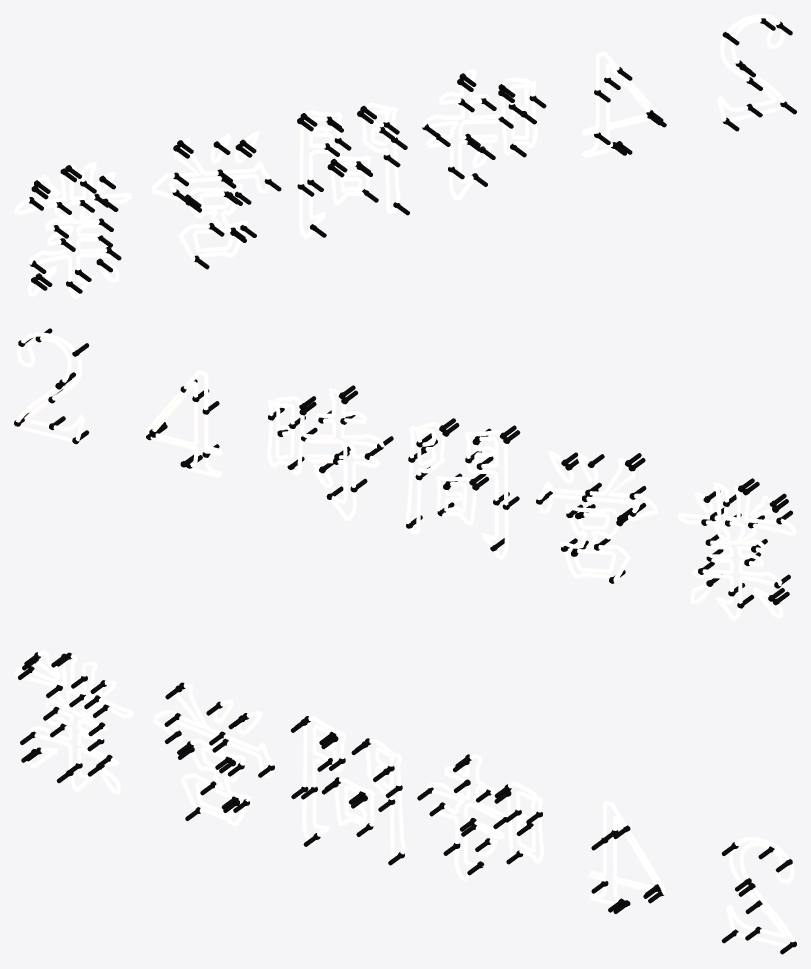
Rendered from neon_24zikaneigyou.fbx.
3 renders of one model, top to bottom at view 1: azimuth 30°, elevation 25°; view 2: azimuth 150°, elevation 25°; view 3: azimuth 330°, elevation 25°, orthographic.
Parts seen in each view (by area): view 1: NeonEnglish; view 2: NeonEnglish; view 3: NeonEnglish.
Part boxes in pixels (x1,y1,x2,y2): NeonEnglish: (14,14,796,299); NeonEnglish: (14,328,796,621); NeonEnglish: (14,650,796,954).
Bounding box in the file's own units: 738 × 124 × 21.29.
